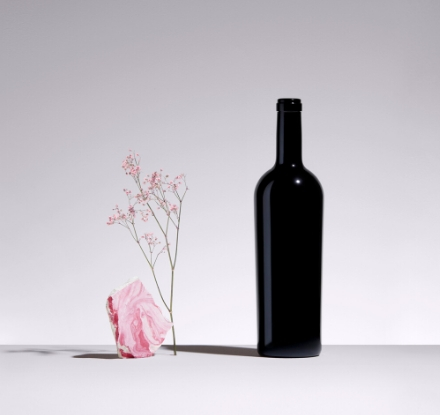glass_bottle: (251, 94, 329, 361)
